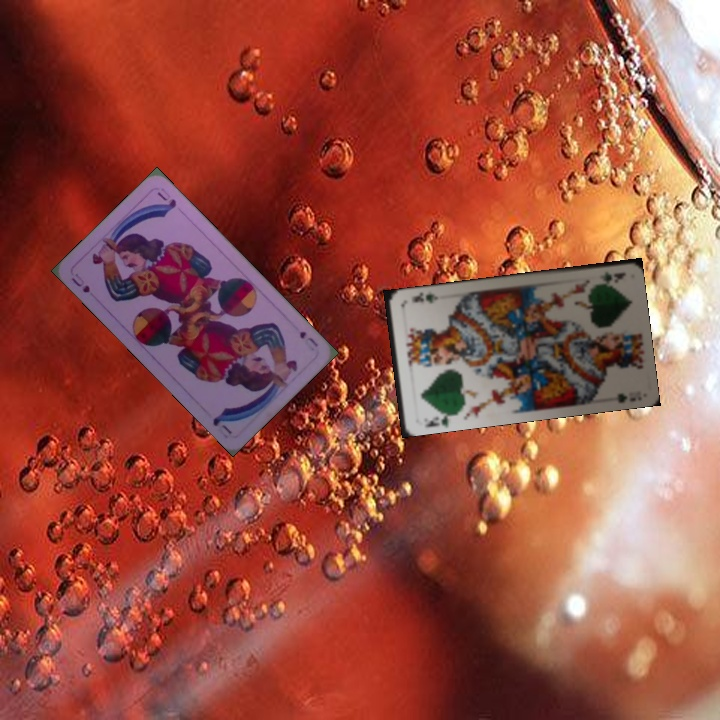GK: (421, 408, 455, 429), (598, 268, 627, 285)
SU: (68, 269, 92, 295), (295, 327, 321, 349)
